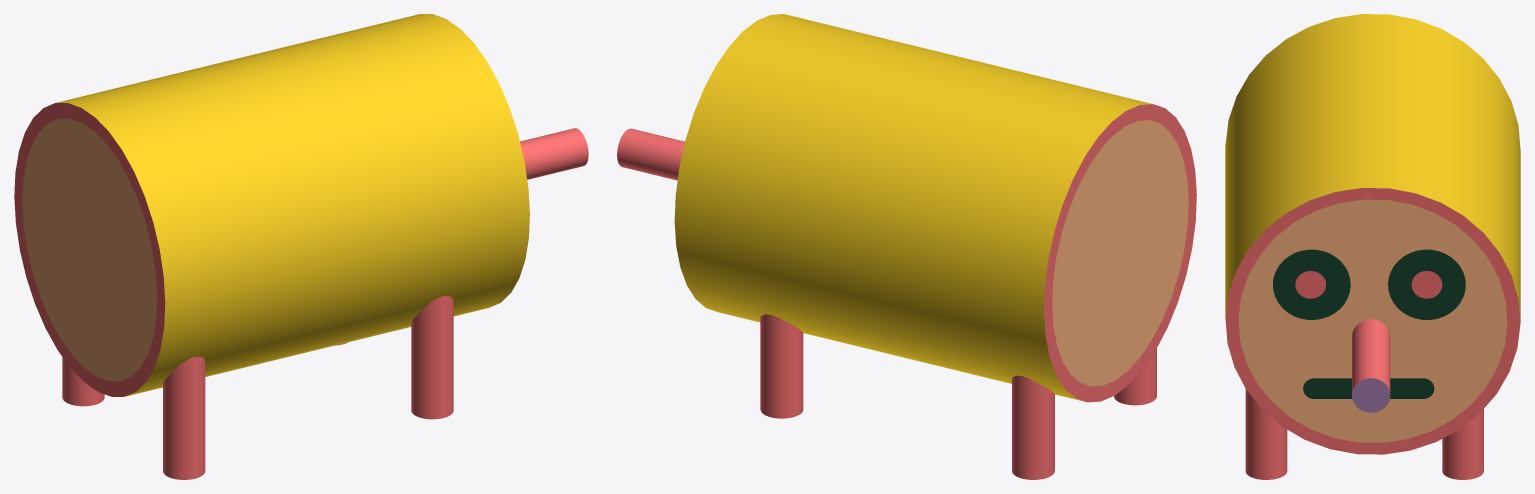
Rendered from objet3.dae.
3 views of the same model, side by side, from view 1: azimuth 30°, elevation 25°; view 2: azimuth 150°, elevation 25°; view 3: azimuth 270°, elevation 25° (orthographic). The views are drawn at different scales.
Parts seen in each view (by area): view 1: instance_0 (×4), instance_1 (×3); view 2: instance_0 (×4), instance_1 (×3); view 3: instance_0 (×10), instance_1 (×2).
Boxes of the visible parts, box(x1,y1,x2,y2) form: instance_0 (×4): box(14, 14, 588, 396); instance_1 (×3): box(62, 296, 453, 479); instance_0 (×4): box(617, 14, 1196, 402); instance_1 (×3): box(760, 314, 1156, 479); instance_0 (×10): box(1225, 14, 1520, 454); instance_1 (×2): box(1245, 389, 1483, 479).
Bounding box in the file's own units: 104 × 55.87 × 66.83.
